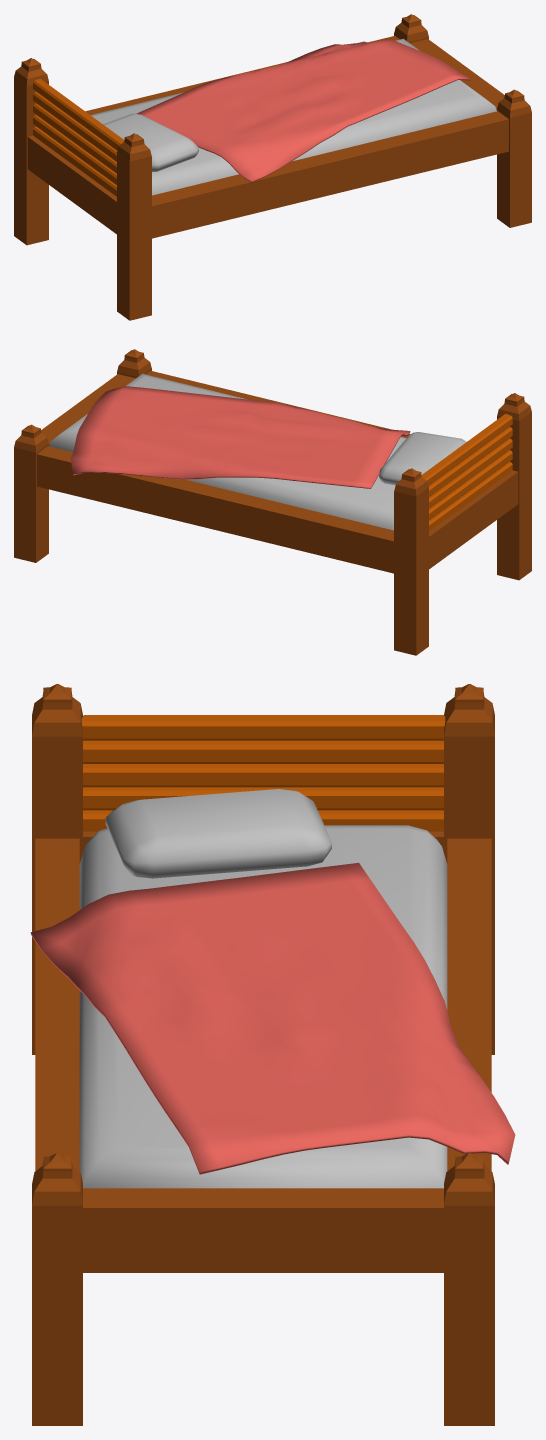
The model's file is Bed1.fbx.
The picture shows the model from 3 angles, top to bottom: view 1: azimuth 30°, elevation 25°; view 2: azimuth 150°, elevation 25°; view 3: azimuth 270°, elevation 25°; orthographic projection. The views are drawn at different scales.
Parts seen in each view (by area): view 1: Bed1; view 2: Bed1; view 3: Bed1.
Part boxes in pixels (bbox=[...]): Bed1: bbox=[14, 14, 531, 320]; Bed1: bbox=[14, 349, 531, 655]; Bed1: bbox=[30, 684, 515, 1425].
Size of the model in its own units: 1040 by 444 by 543.
